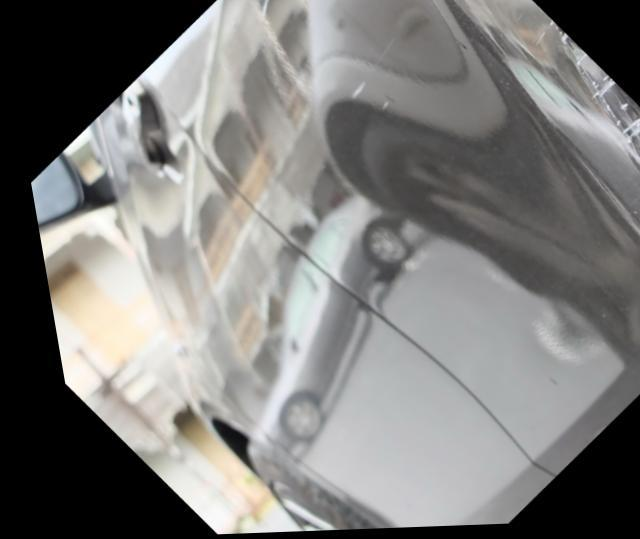scratch: (537, 10, 640, 187)
